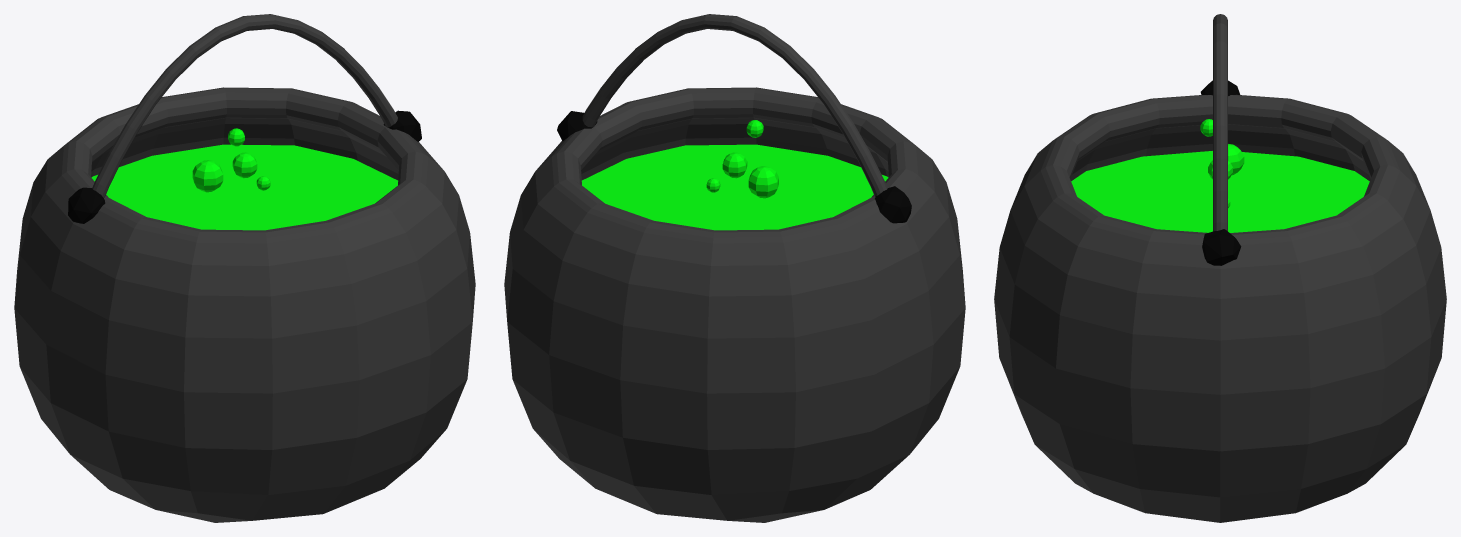
File: Magic cauldron.glb
The picture shows the model from 3 angles, left to right: view 1: azimuth 30°, elevation 25°; view 2: azimuth 150°, elevation 25°; view 3: azimuth 270°, elevation 25°; orthographic projection.
Parts seen in each view (by area): view 1: Plane; view 2: Plane; view 3: Plane.
Boxes of the visible parts, box(x1,y1,x2,y2) form: Plane: box(14, 14, 475, 522); Plane: box(504, 14, 965, 522); Plane: box(994, 14, 1446, 522).
Bounding box in the file's own units: 1.78 × 2.05 × 1.78.
